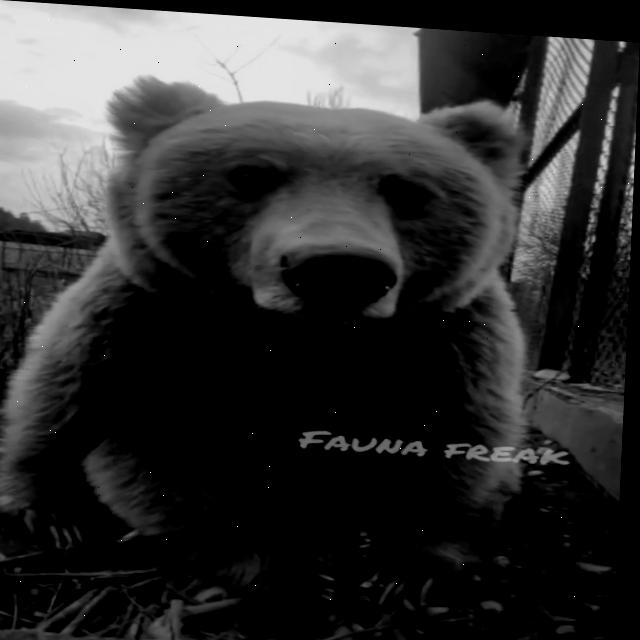Bear: (0, 63, 544, 640)
